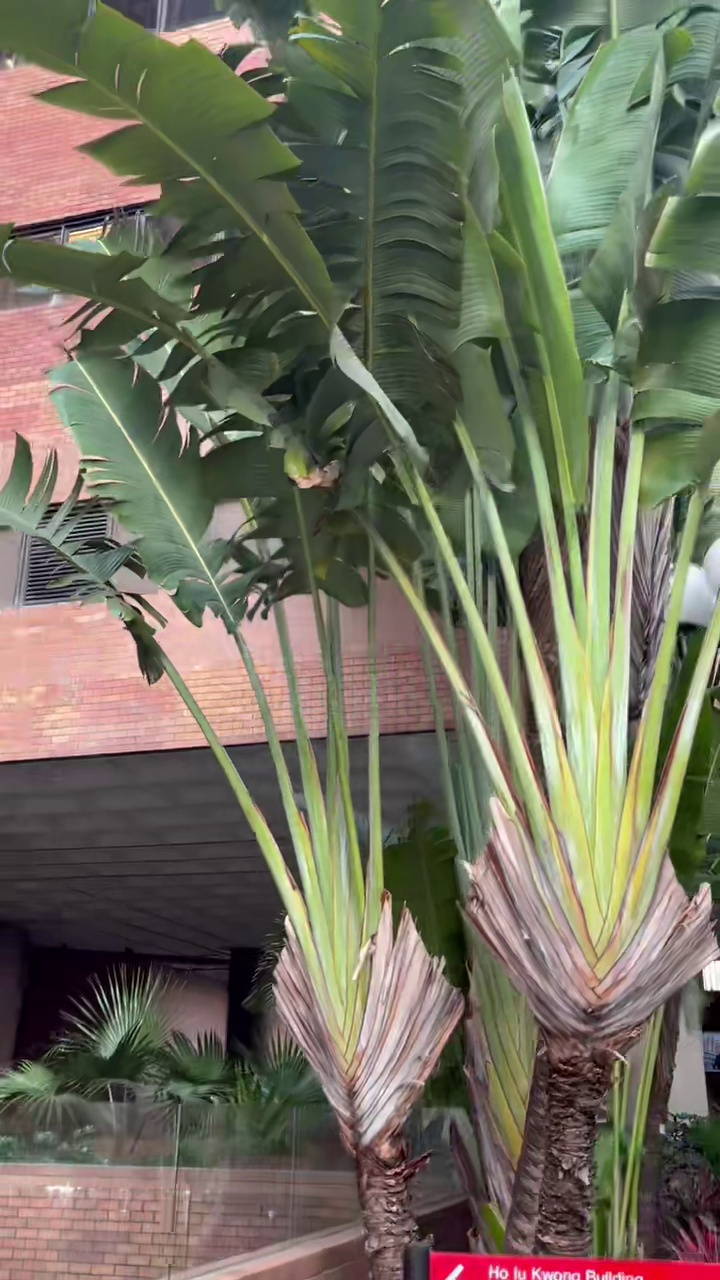Travellers-tree: (0, 0, 719, 1255)
